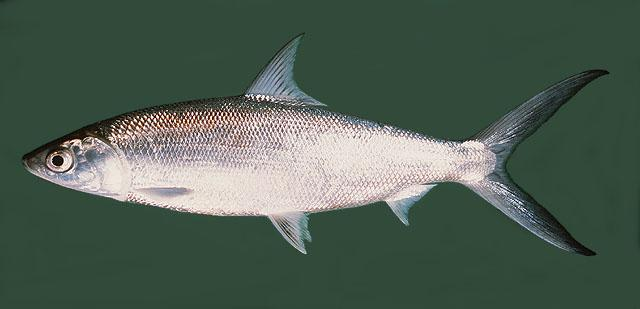Mulut: (13, 137, 49, 197)
Sirip Anal: (375, 174, 443, 234)
Sirip Dada: (120, 173, 202, 218)
Sirip Ekor: (456, 60, 620, 268)
Sirip Perut: (262, 202, 324, 262)
Sirip Punggung: (234, 24, 336, 118)
